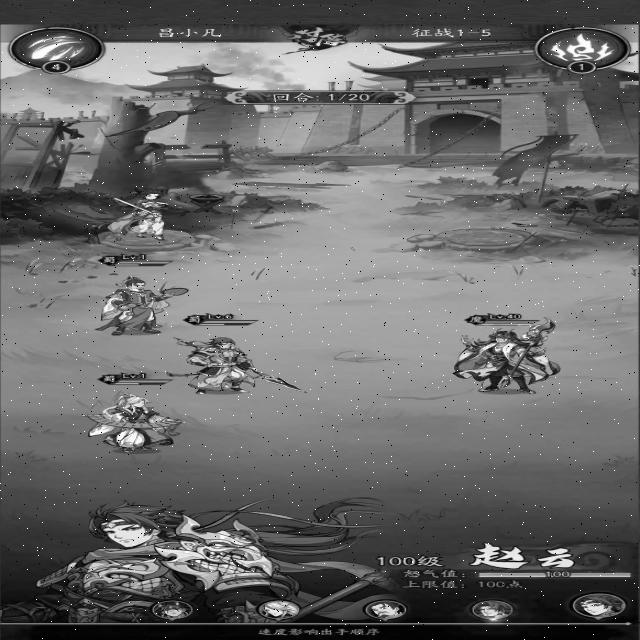hint-guide: (253, 624, 387, 640)
